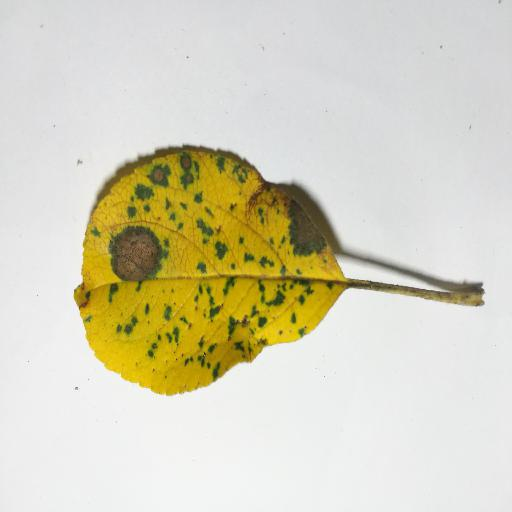Brown_Spot: (99, 232, 161, 280), (288, 216, 320, 259), (242, 171, 270, 211), (175, 158, 190, 184), (152, 167, 164, 183)
